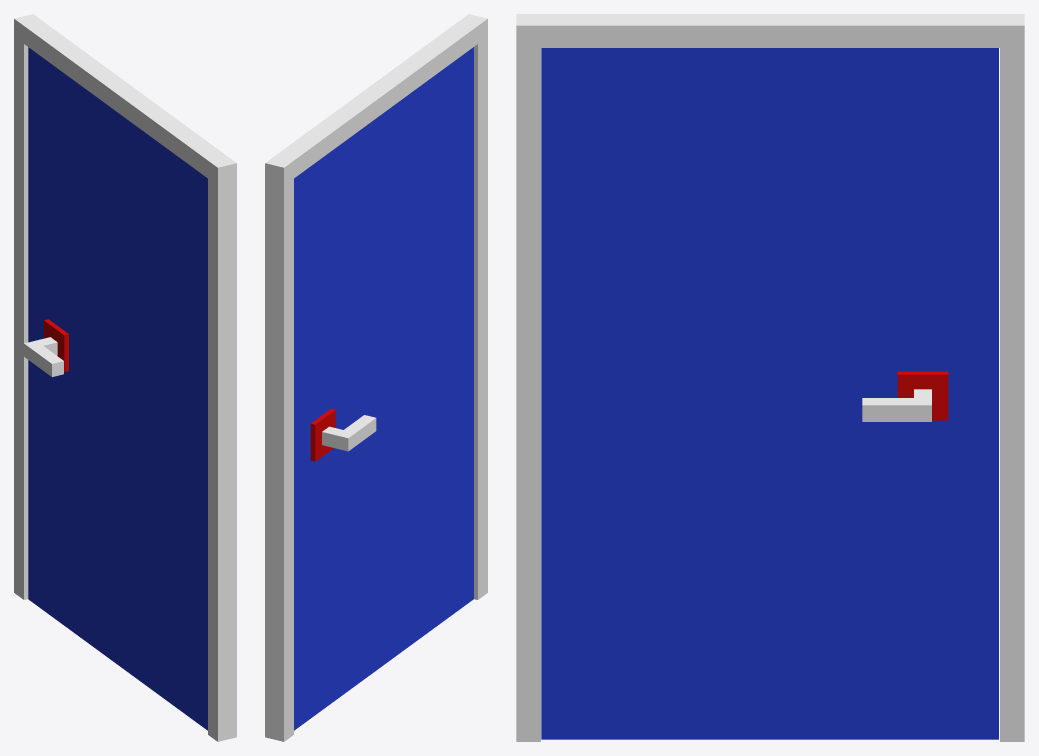
The model's file is SingleDoor.glb.
3 renders of one model, left to right at view 1: azimuth 30°, elevation 25°; view 2: azimuth 150°, elevation 25°; view 3: azimuth 270°, elevation 25°, orthographic. The views are drawn at different scales.
Parts seen in each view (by area): view 1: Door, DoorFrame, Handle_L, HandleBase_L; view 2: Door, DoorFrame, Handle_L, HandleBase_L; view 3: Door, DoorFrame, Handle_R, HandleBase_R.
Boxes of the visible parts, left/top/right/bottom form: Door: left=28, top=47, right=207, bottom=730; DoorFrame: left=14, top=14, right=236, bottom=741; Handle_L: left=24, top=337, right=63, bottom=376; HandleBase_L: left=44, top=319, right=68, bottom=371; Door: left=294, top=47, right=473, bottom=730; DoorFrame: left=265, top=14, right=487, bottom=741; Handle_L: left=322, top=415, right=376, bottom=451; HandleBase_L: left=310, top=409, right=335, bottom=461; Door: left=541, top=48, right=998, bottom=739; DoorFrame: left=516, top=14, right=1024, bottom=741; Handle_R: left=862, top=389, right=931, bottom=421; HandleBase_R: left=897, top=371, right=948, bottom=420.
Size of the model in its own units: 0.4174 by 3.11 by 2.
